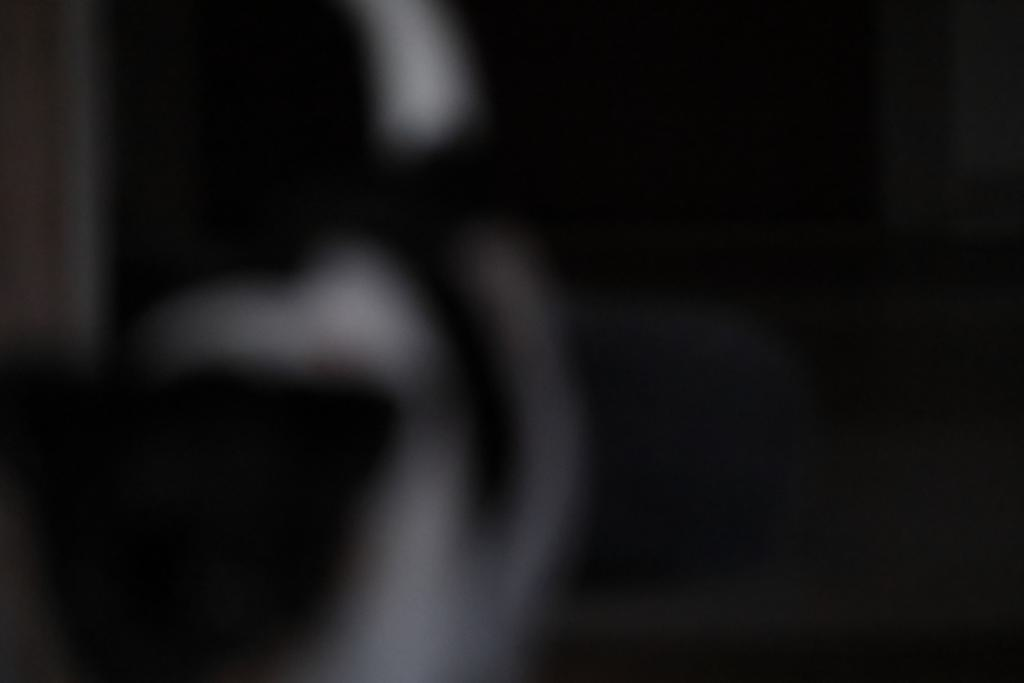Dog: (0, 0, 635, 683)
